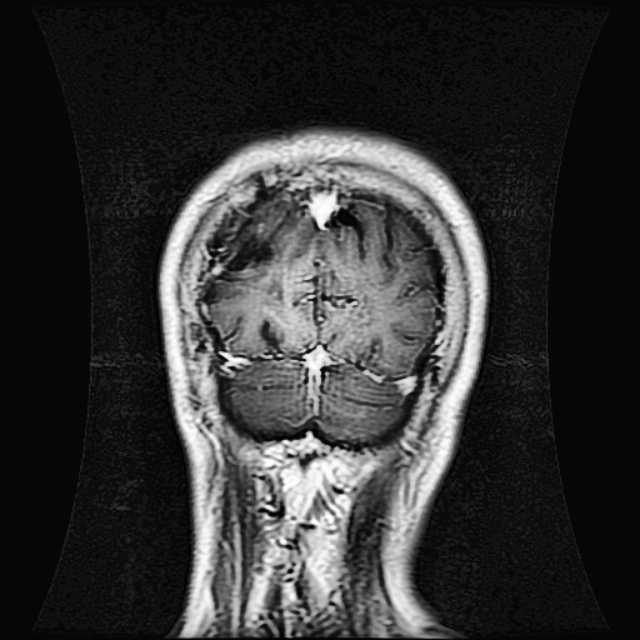Meningioma: (215, 219, 278, 272)
